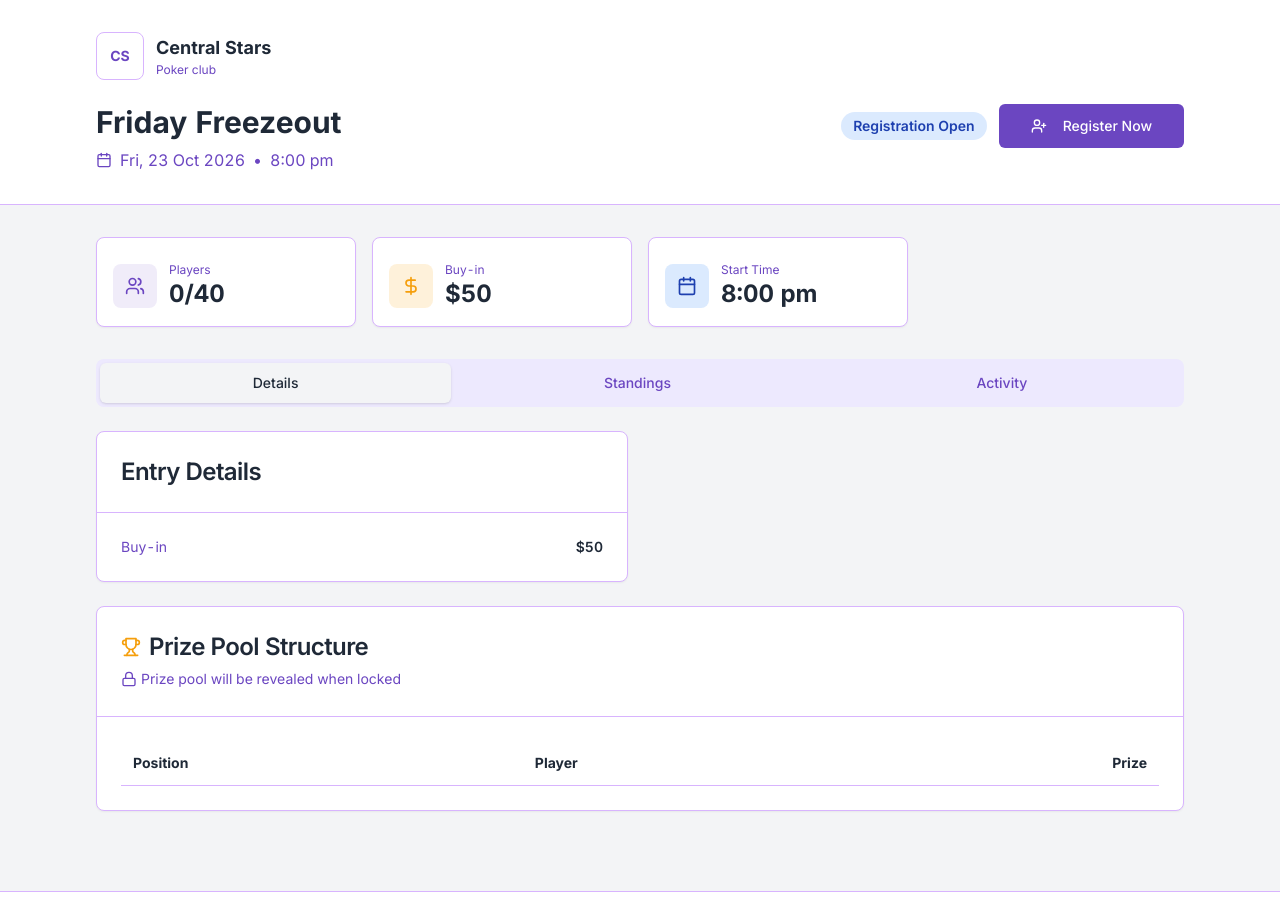
PublicTournamentView standings (PUB-25) › says nobody has registered yet when the list is empty
The image size is (1280, 900).
Click the tab "Standings": (637, 383) [451,363,824,403]
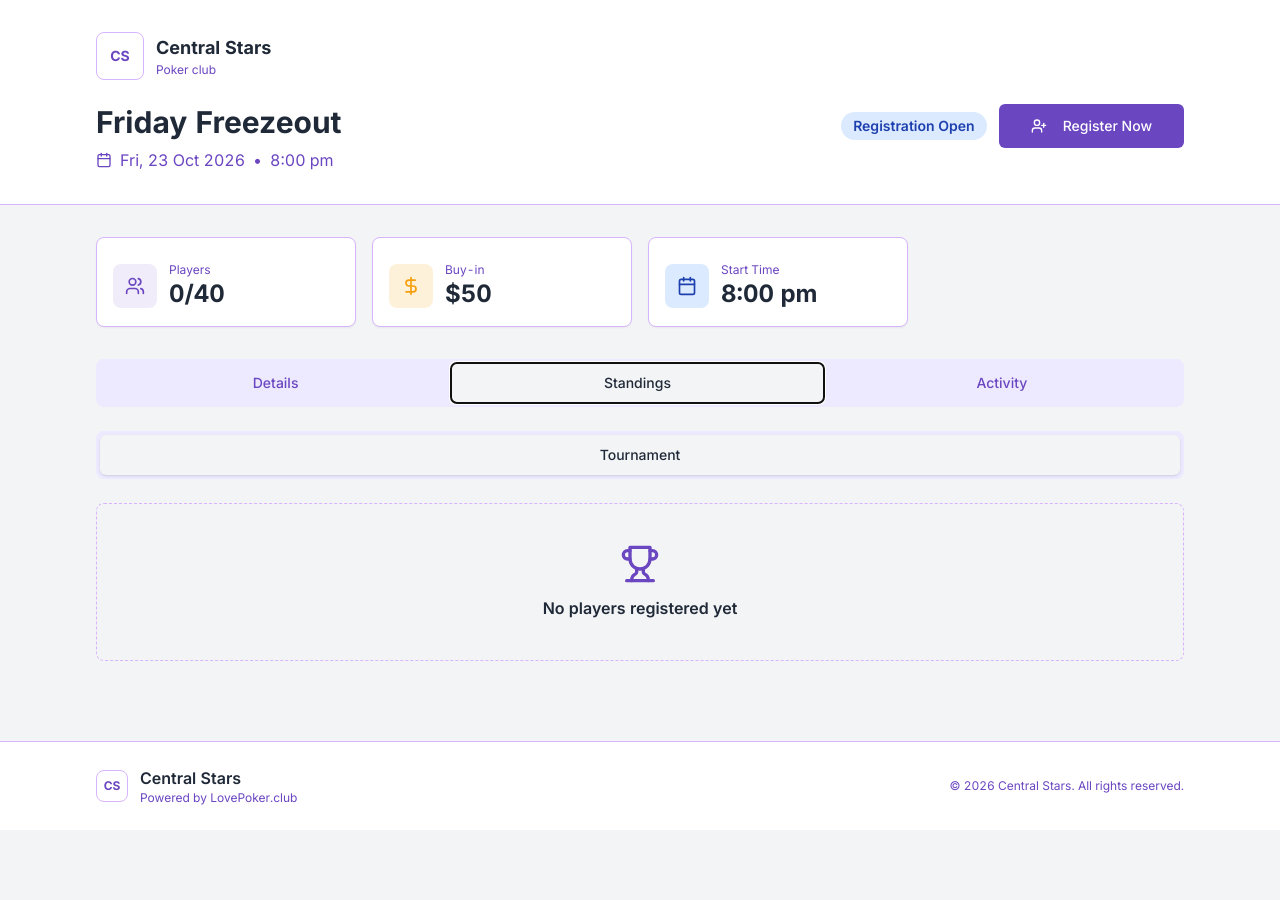
Check: the heading "No players registered yet" is shown, box [543,596,737,620]
